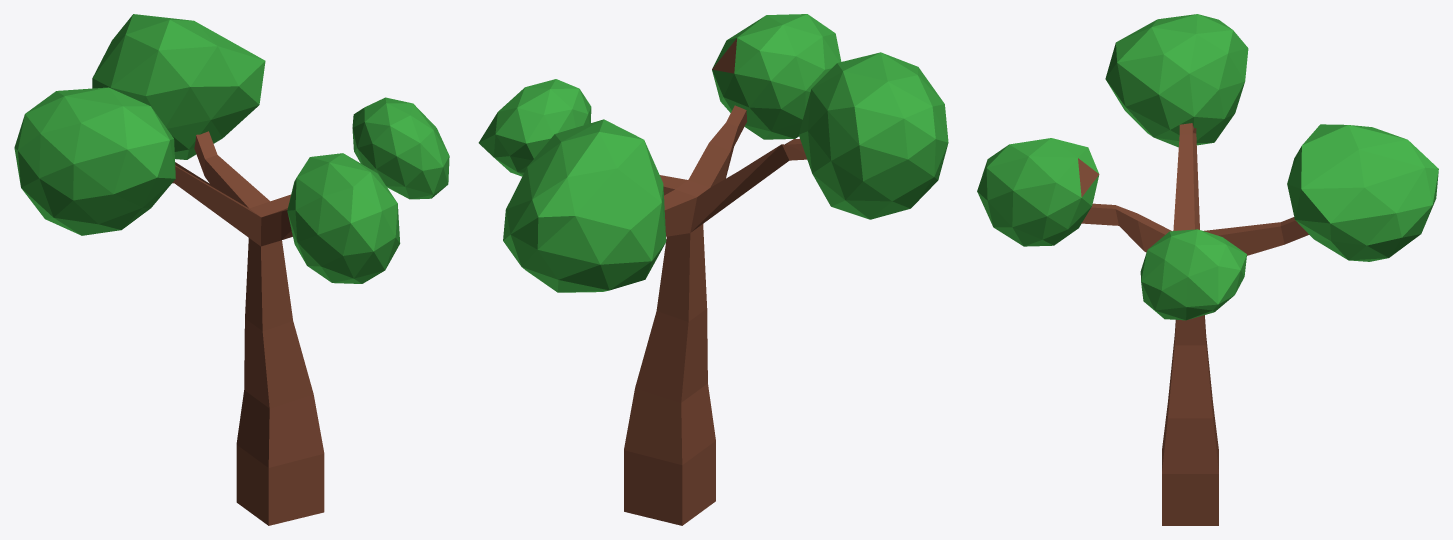
The model's file is Tree_bollar.fbx.
3 renders of one model, left to right at view 1: azimuth 30°, elevation 25°; view 2: azimuth 150°, elevation 25°; view 3: azimuth 270°, elevation 25°, orthographic. The views are drawn at different scales.
Visible parts, largest first — view 1: Tree with balls; view 2: Tree with balls; view 3: Tree with balls.
Boxes of the visible parts, bbox=[...] form: Tree with balls: bbox=[14, 14, 449, 525]; Tree with balls: bbox=[478, 14, 948, 525]; Tree with balls: bbox=[977, 14, 1438, 525].
Size of the model in its own units: 925 by 959 by 981.
